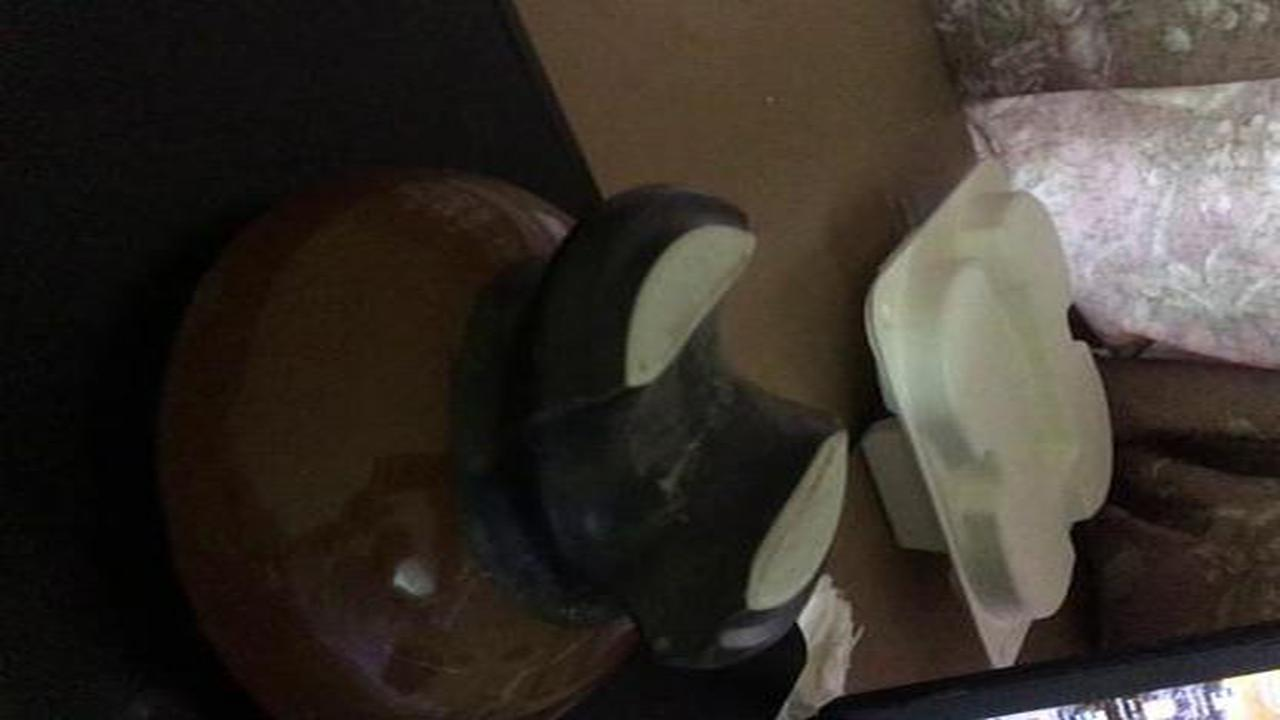insulator_pin: (142, 143, 871, 712)
